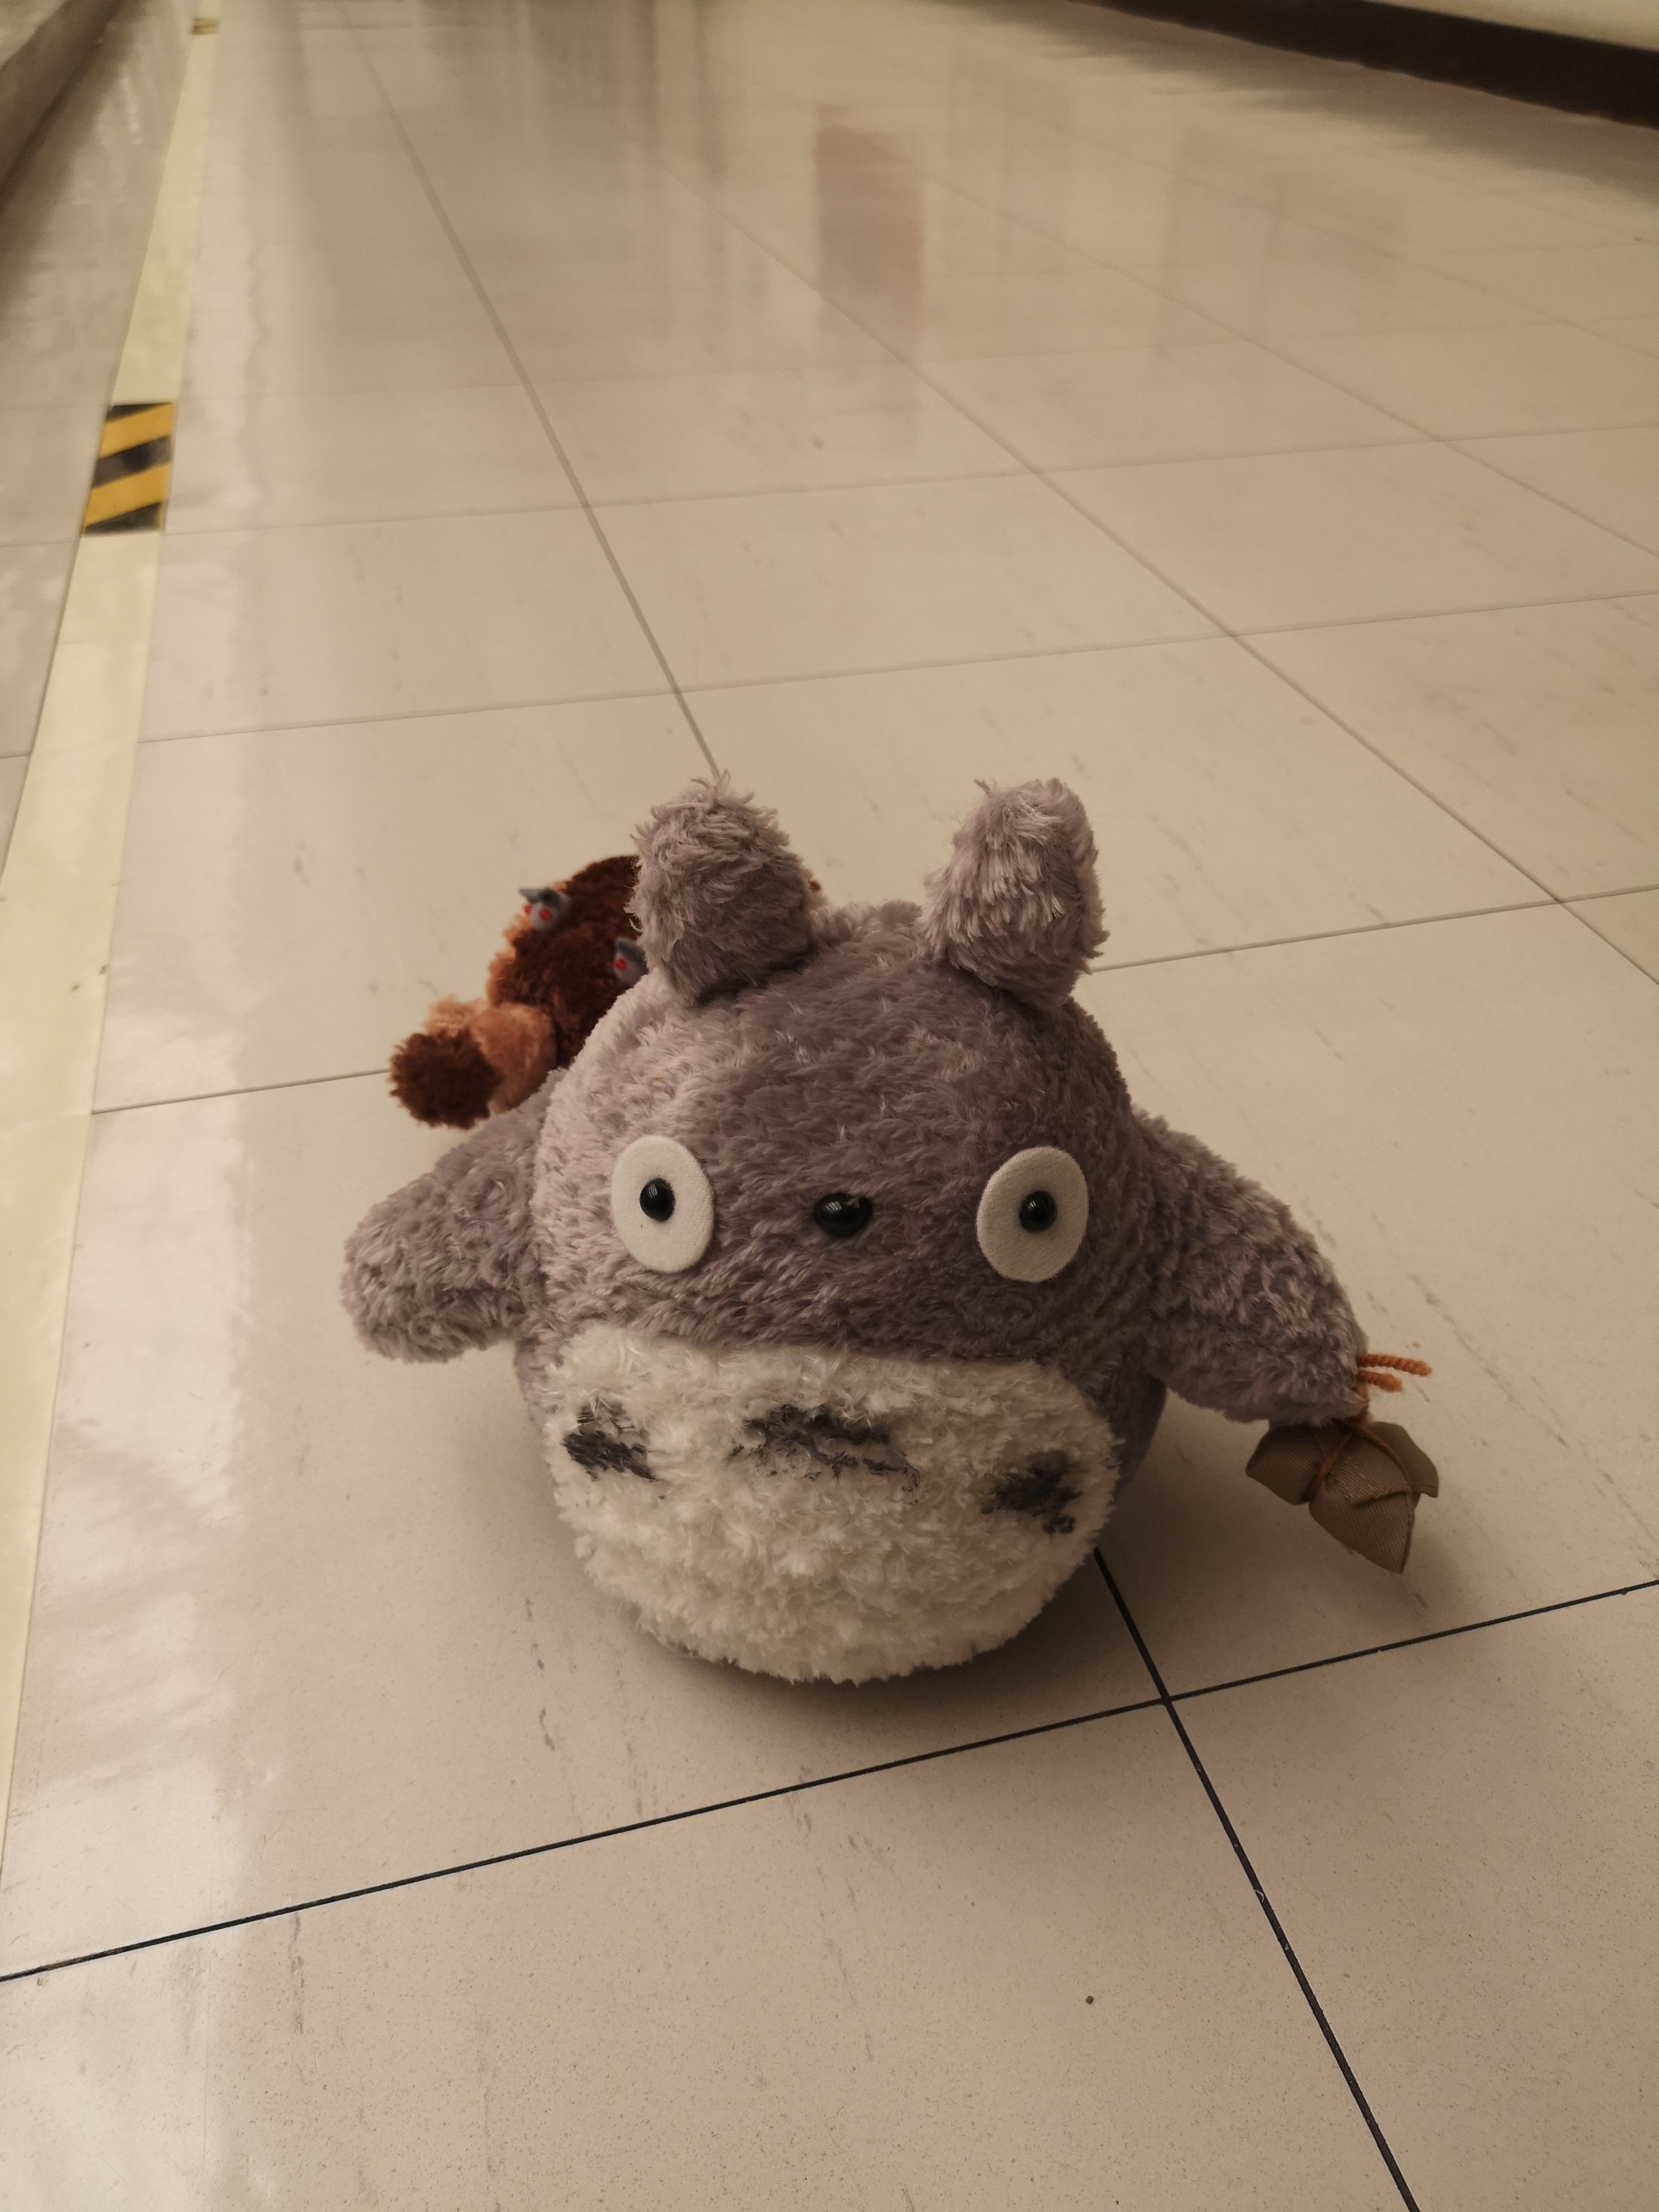nekobus: (385, 827, 627, 1113)
totoro: (333, 768, 1452, 1712)
